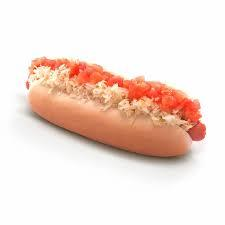Completos: (19, 49, 205, 160)
